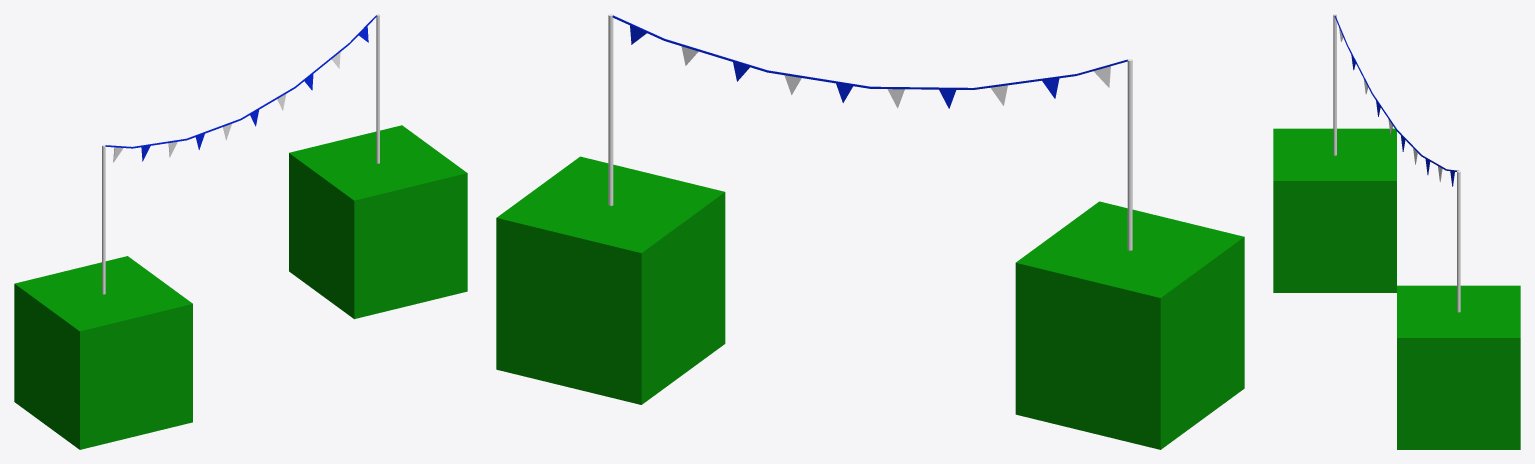
Rendered from FlagsLeft.obj.
3 renders of one model, left to right at view 1: azimuth 30°, elevation 25°; view 2: azimuth 150°, elevation 25°; view 3: azimuth 270°, elevation 25°, orthographic. The views are drawn at different scales.
Visible parts, largest first — view 1: Cube_Cube_Material.001, Cube_Cube_Material.002, Cube_Cube_Material.005; view 2: Cube_Cube_Material.001, Cube_Cube_Material.002, Cube_Cube_Material.005, Cube_Cube_Material.006; view 3: Cube_Cube_Material.001, Cube_Cube_Material.002, Cube_Cube_Material.005.
Boxes of the visible parts, bbox=[...] form: Cube_Cube_Material.001: bbox=[14, 125, 467, 449]; Cube_Cube_Material.002: bbox=[102, 14, 379, 294]; Cube_Cube_Material.005: bbox=[105, 15, 376, 148]; Cube_Cube_Material.001: bbox=[496, 156, 1244, 449]; Cube_Cube_Material.002: bbox=[608, 14, 1132, 250]; Cube_Cube_Material.005: bbox=[612, 15, 1127, 89]; Cube_Cube_Material.006: bbox=[630, 25, 1059, 108]; Cube_Cube_Material.001: bbox=[1273, 128, 1520, 449]; Cube_Cube_Material.002: bbox=[1333, 14, 1460, 312]; Cube_Cube_Material.005: bbox=[1334, 15, 1458, 171].
Bounding box in the file's own units: 8 × 4.5 × 4.
